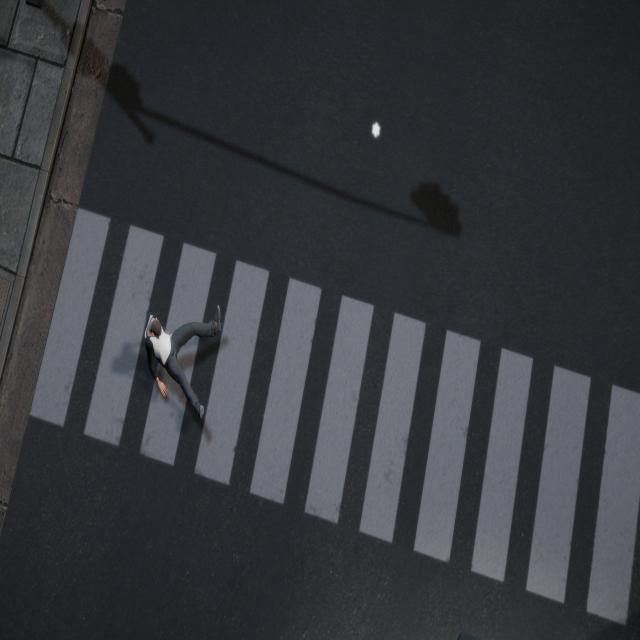Human: (138, 300, 228, 445)
